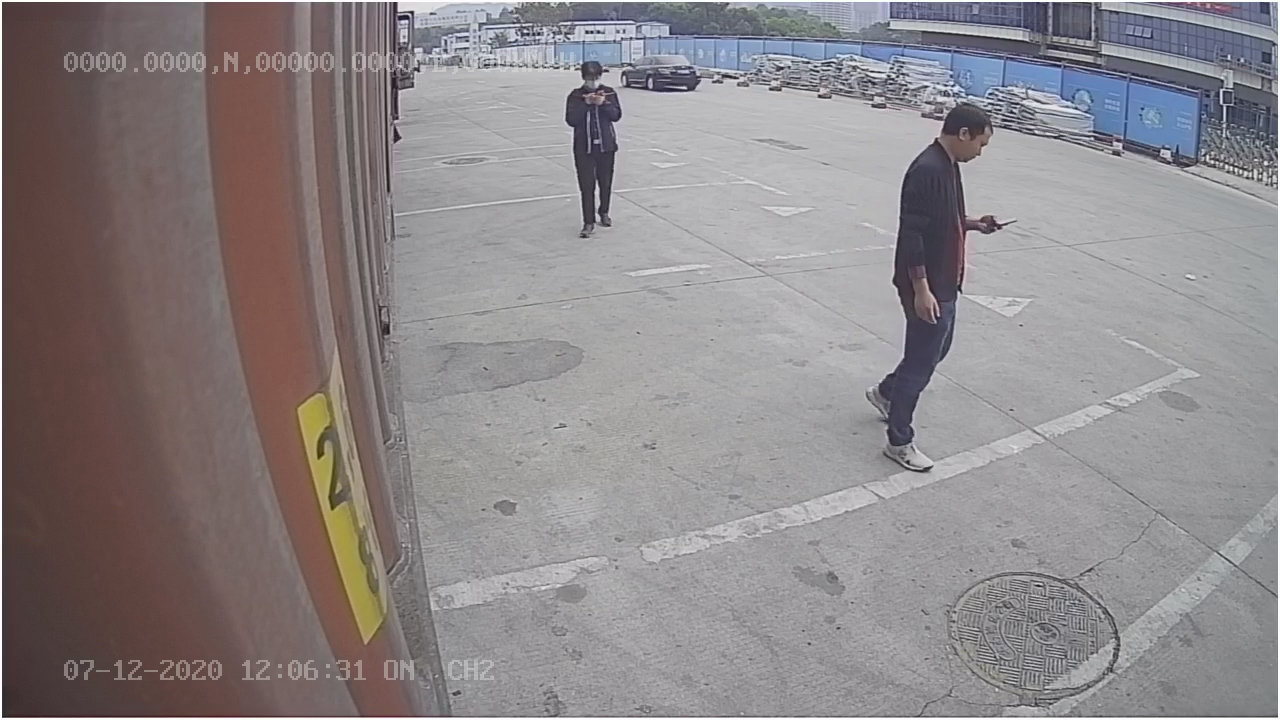person: (866, 100, 1008, 474)
